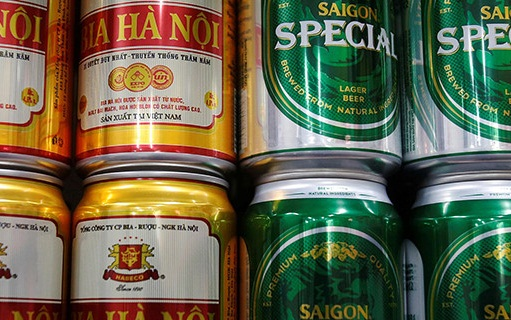biahanoi: (82, 6, 222, 55)
biasaigon: (315, 1, 381, 24), (298, 300, 369, 320)
